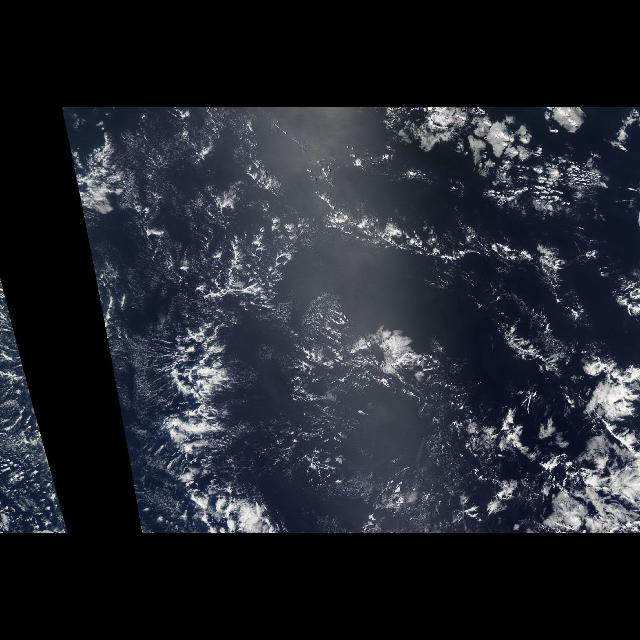Fish: (274, 162, 596, 286), (150, 311, 278, 533)
